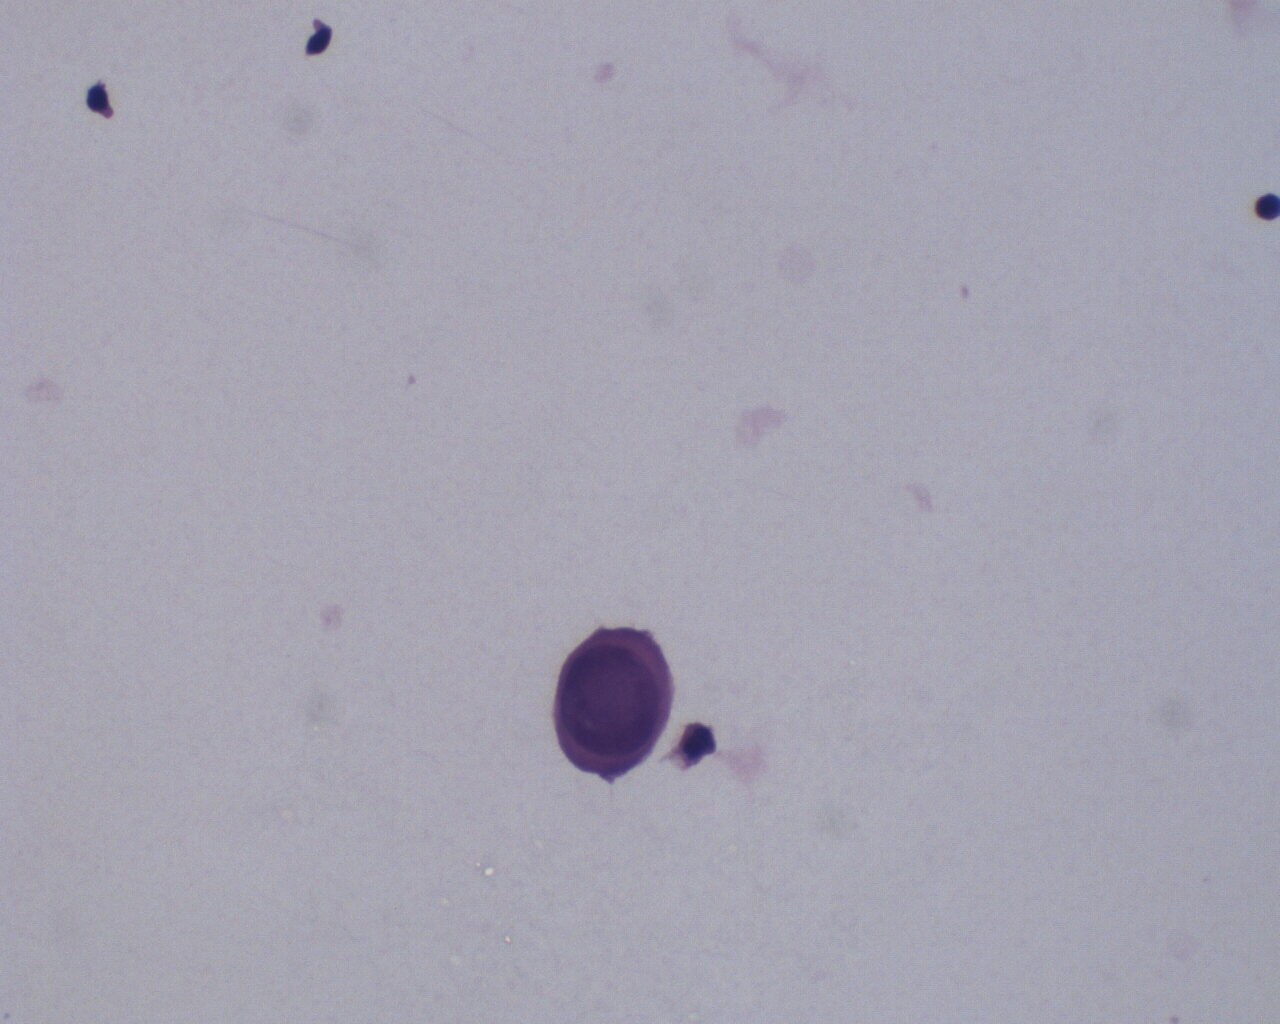ab: (548, 625, 677, 785)
